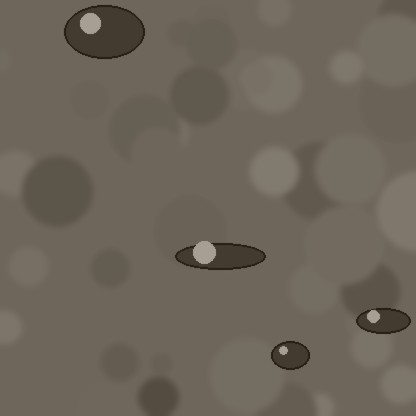gota: (64, 7, 144, 63), (175, 244, 265, 272), (356, 309, 410, 335), (271, 342, 309, 372)
